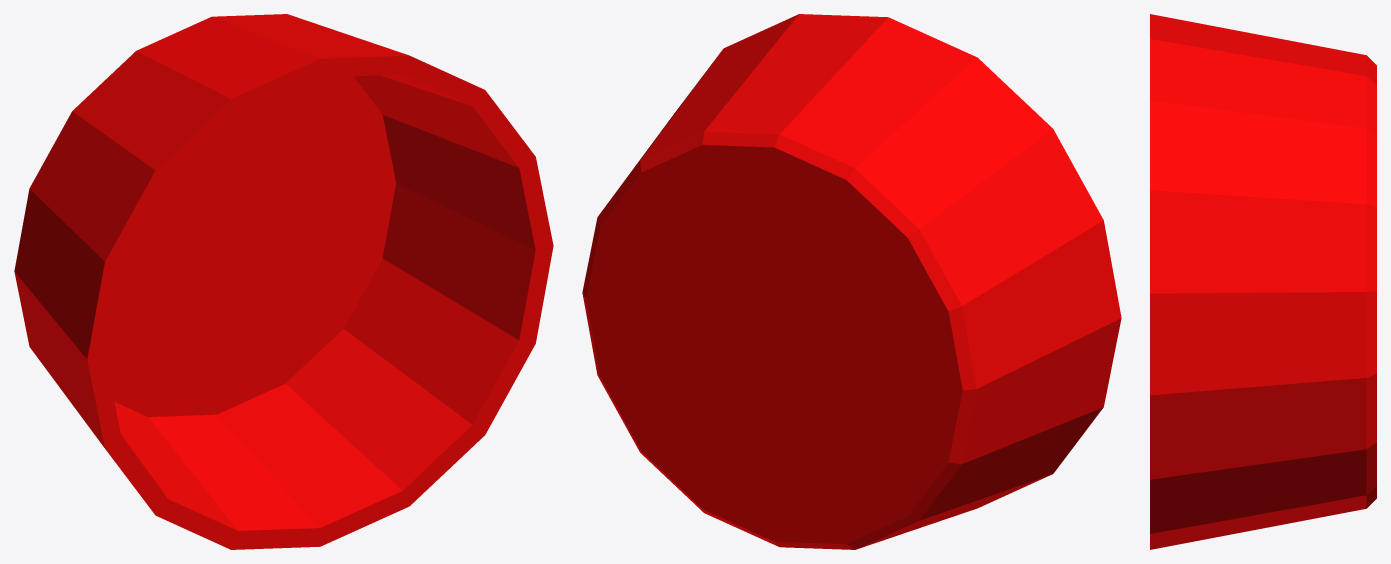
The model's file is nil_link_mesh.dae.
3 views of the same model, side by side, from view 1: azimuth 30°, elevation 25°; view 2: azimuth 150°, elevation 25°; view 3: azimuth 270°, elevation 25° (orthographic).
Visible parts, largest first — view 1: nil_link; view 2: nil_link; view 3: nil_link.
Boxes of the visible parts, left/top/right/bottom form: nil_link: left=14, top=14, right=553, bottom=549; nil_link: left=582, top=14, right=1121, bottom=549; nil_link: left=1150, top=14, right=1376, bottom=549.
Bounding box in the file's own units: 0.26 × 0.26 × 0.11.
